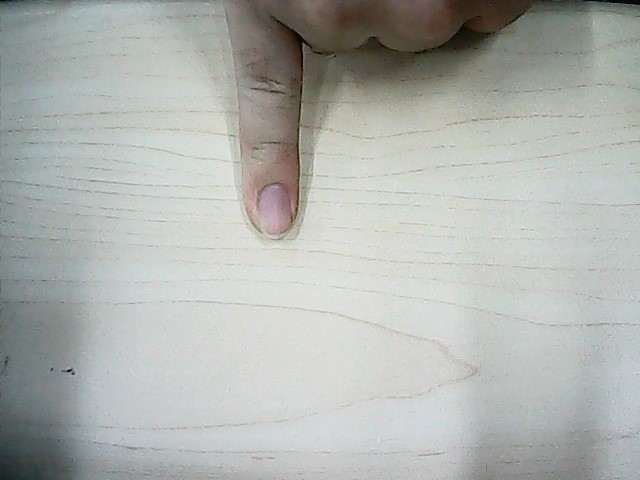nail: (253, 180, 293, 240)
